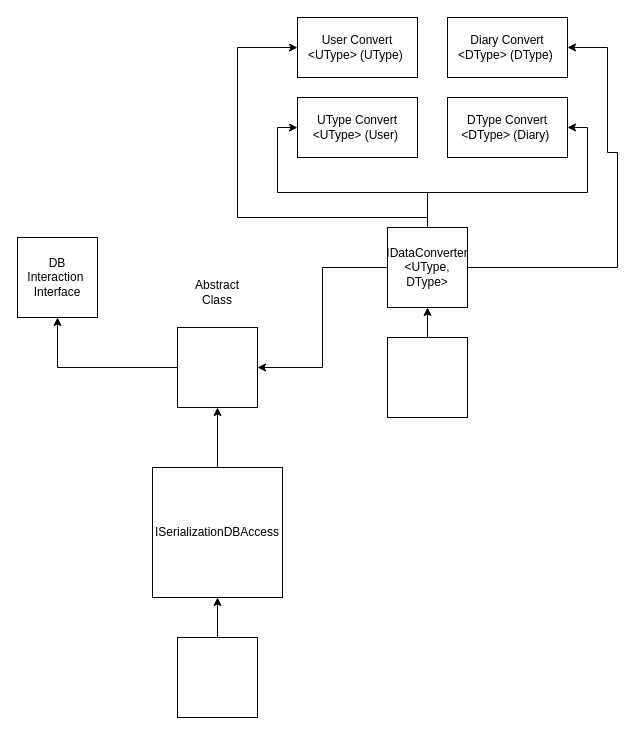
The diagram is 643 pixels wide and 735 high, and some of its shapes have lost their labels. Each missing label, with the centre of its shape:
"Json DataConverter" belongs at [427,377].
"JsonDB" belongs at [217,677].
"Serialization DataBase" belongs at [217,367].
